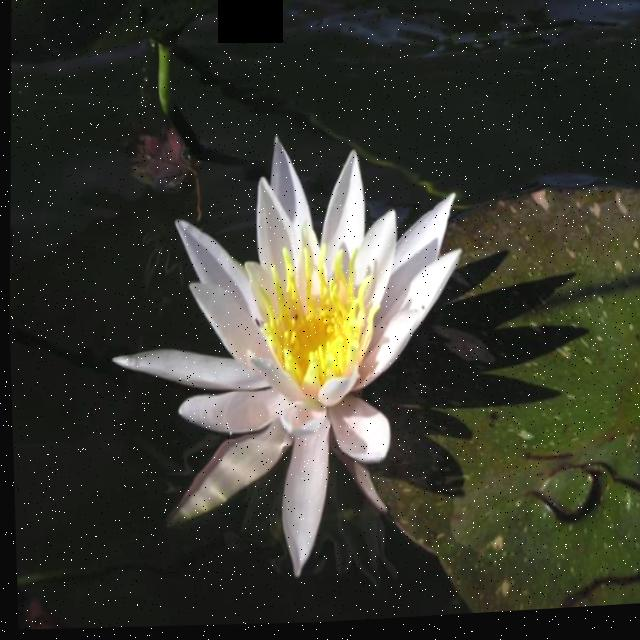water-lily: (146, 132, 474, 521)
